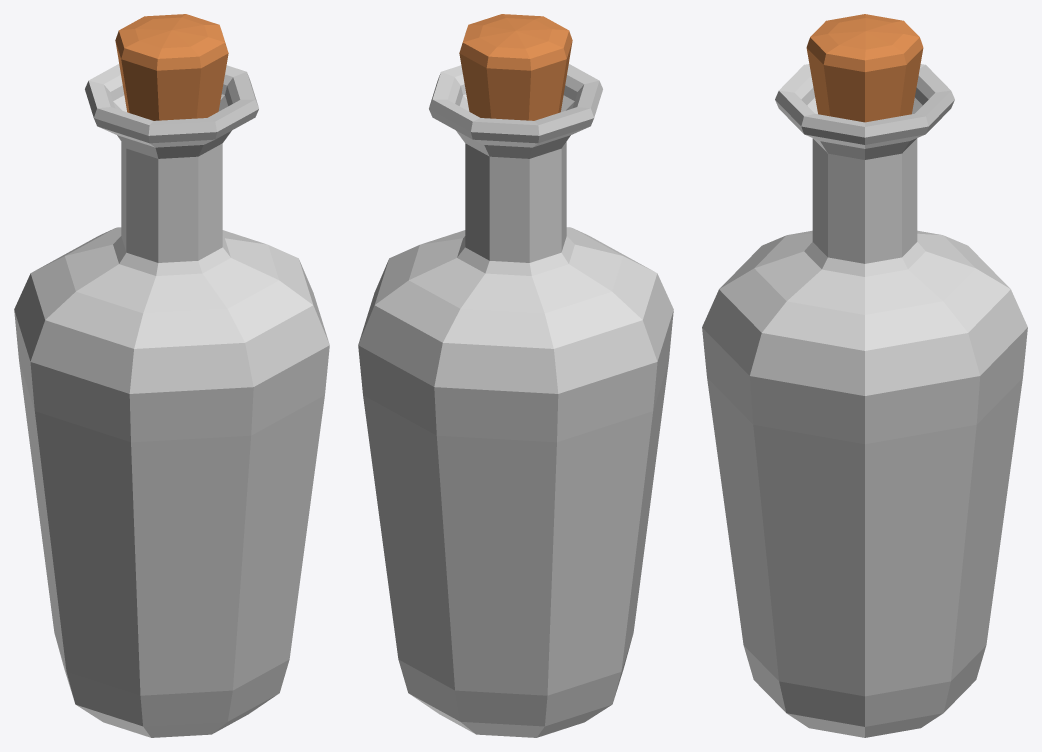
File: Rum.fbx
3 views of the same model, side by side, from view 1: azimuth 30°, elevation 25°; view 2: azimuth 150°, elevation 25°; view 3: azimuth 270°, elevation 25° (orthographic).
Visible parts, largest first — view 1: Rum, Rum.Cork; view 2: Rum, Rum.Cork; view 3: Rum, Rum.Cork.
Part boxes in pixels (x1,y1,x2,y2): Rum: [14, 64, 329, 737]; Rum.Cork: [115, 14, 228, 120]; Rum: [358, 64, 673, 737]; Rum.Cork: [459, 14, 572, 120]; Rum: [702, 64, 1027, 737]; Rum.Cork: [806, 14, 923, 122].
Size of the model in its own units: 7.36 by 16.77 by 7.36.
